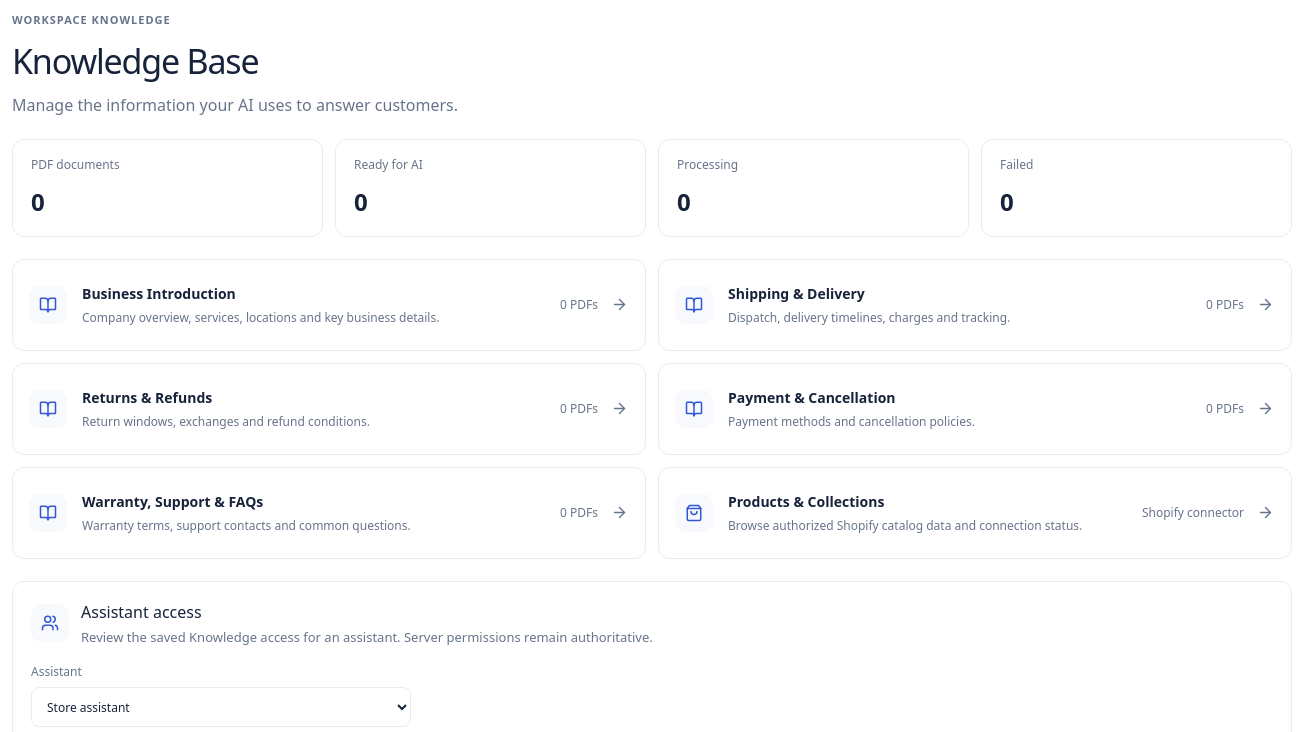
KnowledgeLibrary › opens a section document view with an honest empty state and the real PDF upload action
Click the button "Shipping & Delivery" at (694, 304), box [658,258,1292,350]
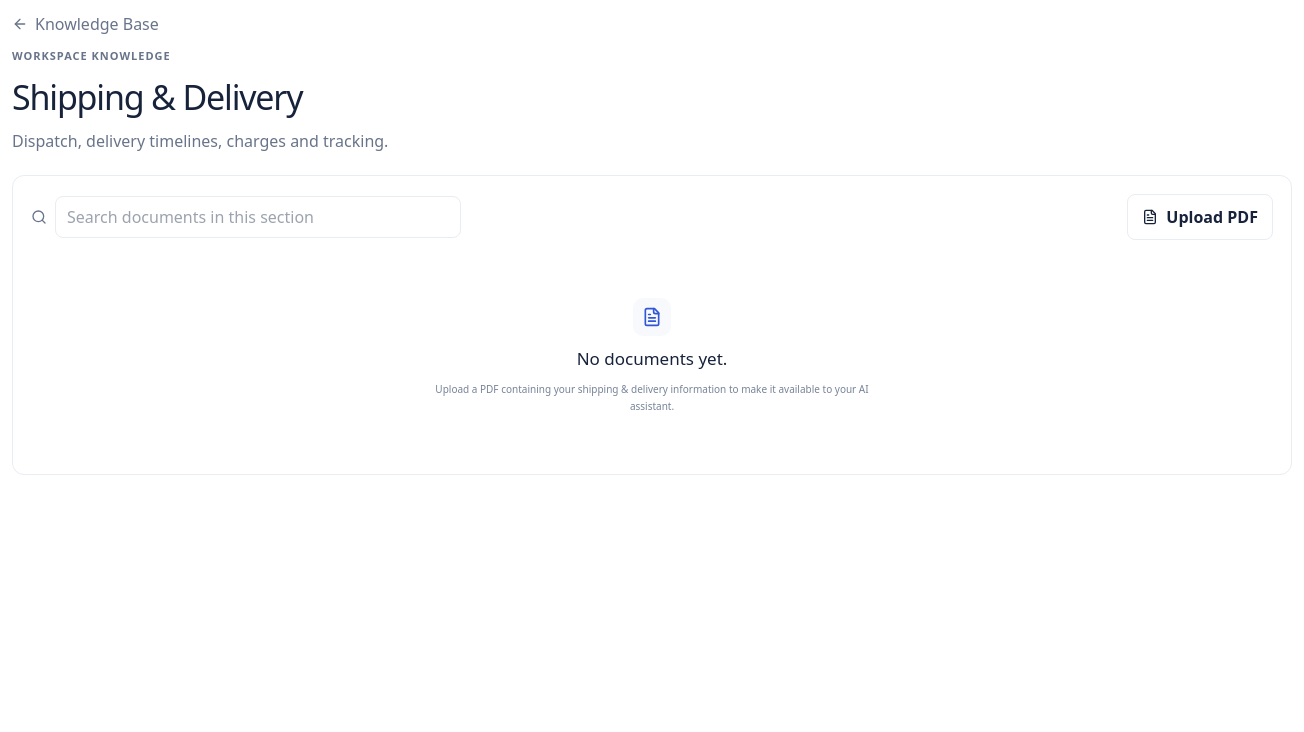
expect the heading "No documents yet." is shown: met, box [577,346,727,371]
expect the button "Upload PDF" is enabled: met, box [1127,194,1273,240]
